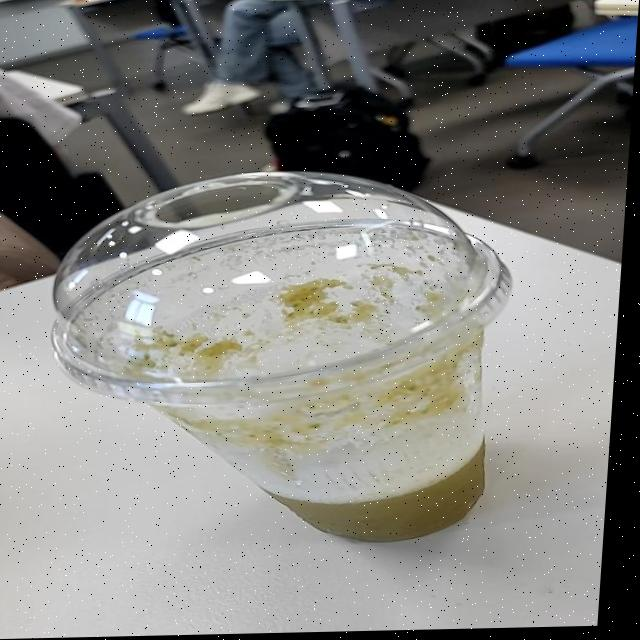cup: (13, 157, 573, 547)
